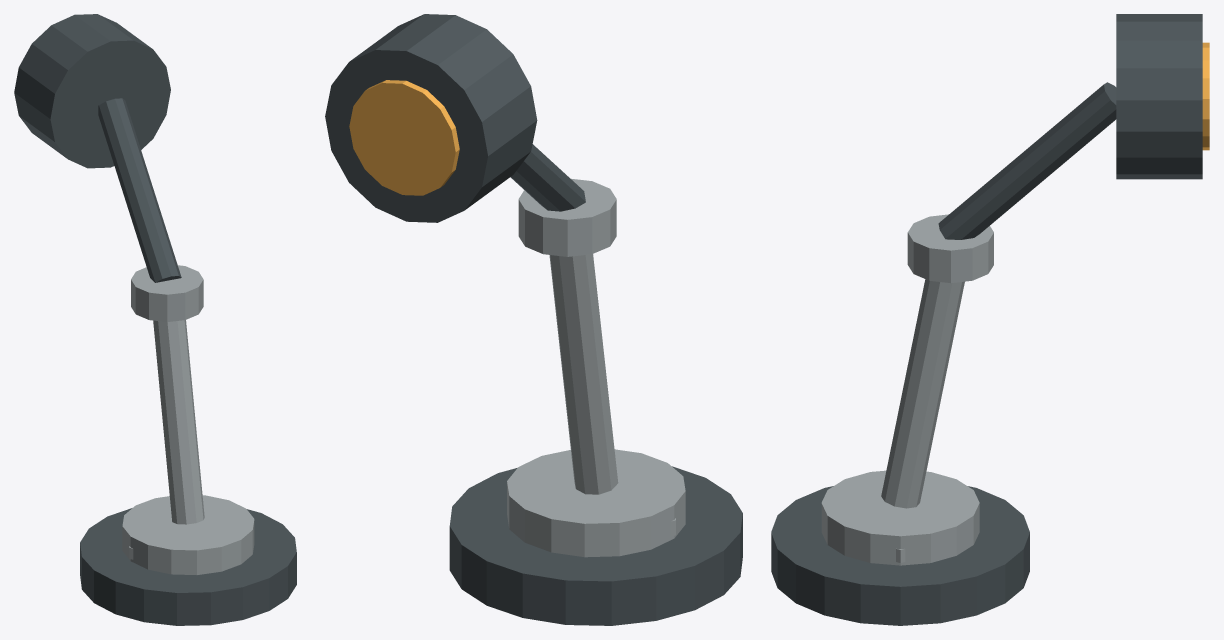
The model's file is lab_inspection_lamp.glb.
3 renders of one model, left to right at view 1: azimuth 30°, elevation 25°; view 2: azimuth 150°, elevation 25°; view 3: azimuth 270°, elevation 25°, orthographic. The views are drawn at different scales.
Visible parts, largest first — view 1: lab_inspection_lamp; view 2: lab_inspection_lamp; view 3: lab_inspection_lamp.
Boxes of the visible parts, x1,y1,x2,y2 form: lab_inspection_lamp: [14, 14, 296, 625]; lab_inspection_lamp: [325, 14, 742, 625]; lab_inspection_lamp: [771, 14, 1209, 625].
Size of the model in its own units: 0.72 by 1.71 by 1.22.
